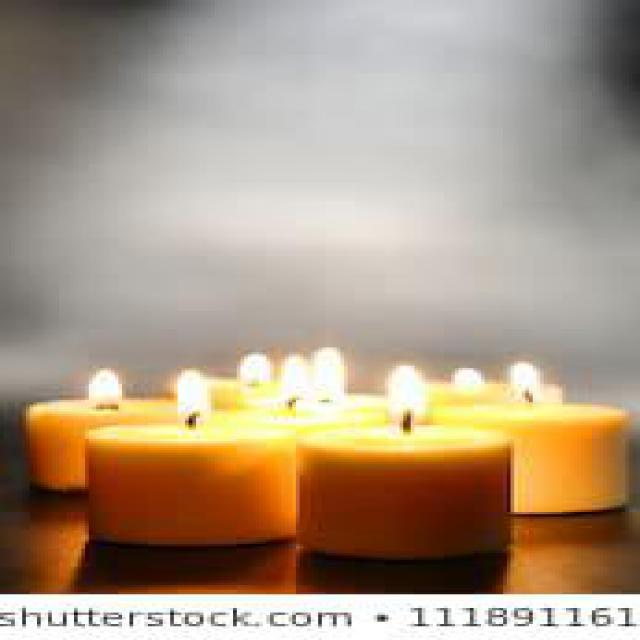Fire: (278, 347, 344, 400), (382, 362, 428, 415), (175, 369, 212, 417), (85, 369, 126, 408), (507, 362, 540, 397), (237, 352, 270, 382)
